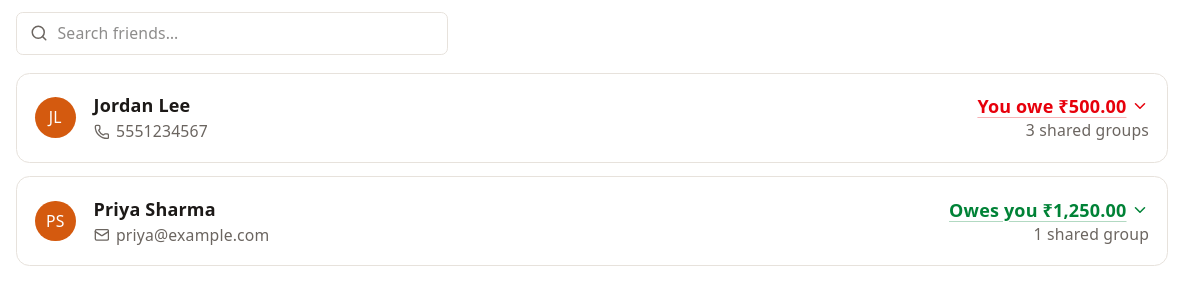
it: FriendsPage › search › filters friends by name
Type "priya" into the search field labelled "Search friends…" at [232, 33], box [16,12,448,54]
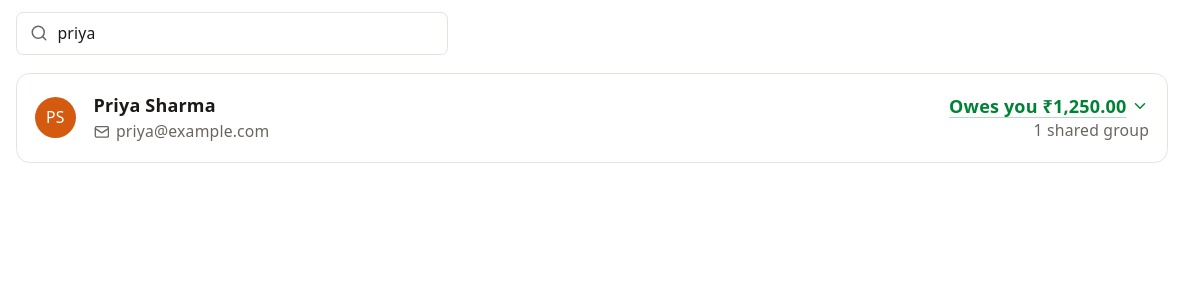
Expected: the text "Priya Sharma" is shown, [94,93,216,117]
Result: the text "Jordan Lee" is gone
